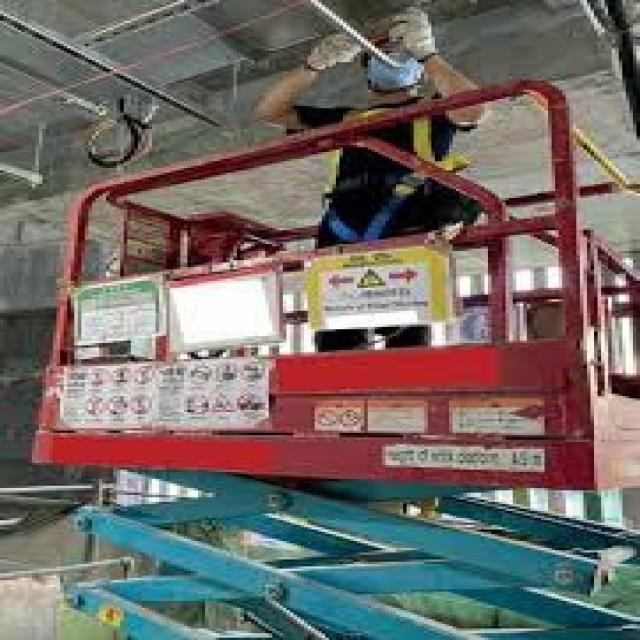Arnes_seguridad: (323, 106, 451, 243)
